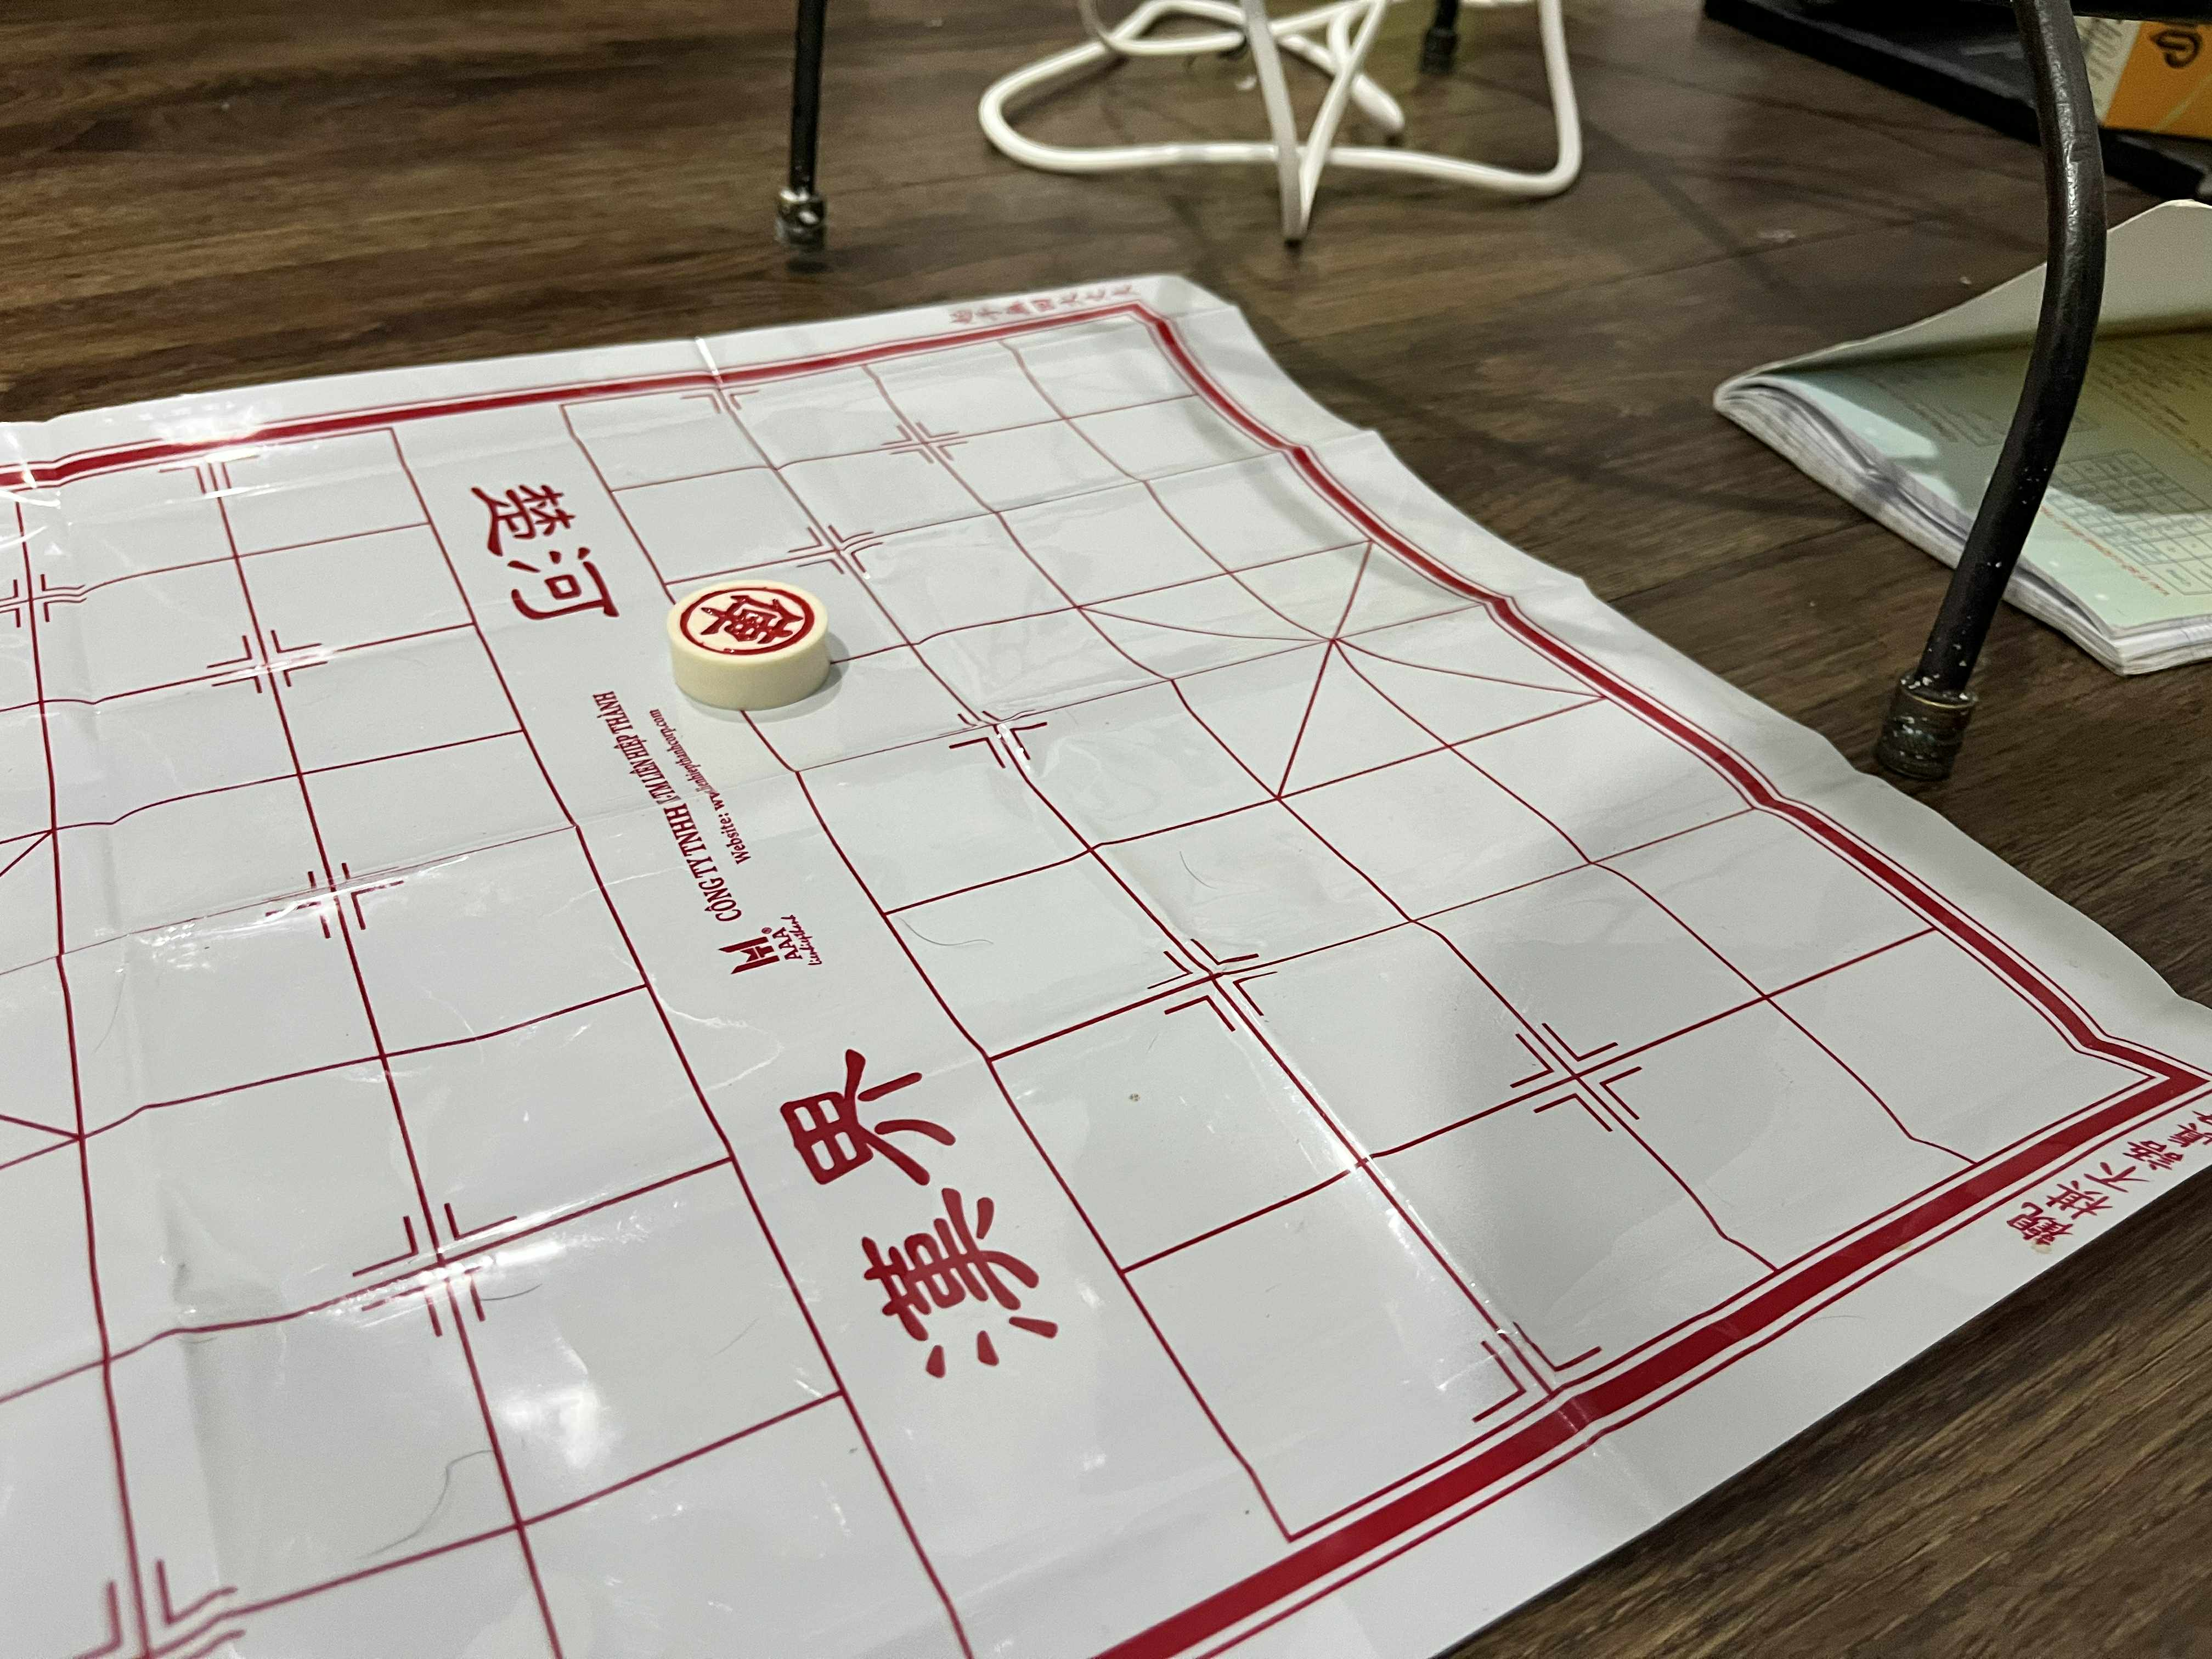red-chariot: (664, 575, 829, 667)
